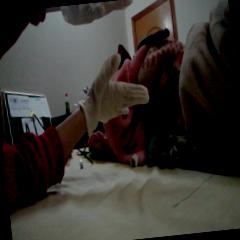gloved: (76, 50, 154, 134), (59, 0, 135, 29)
